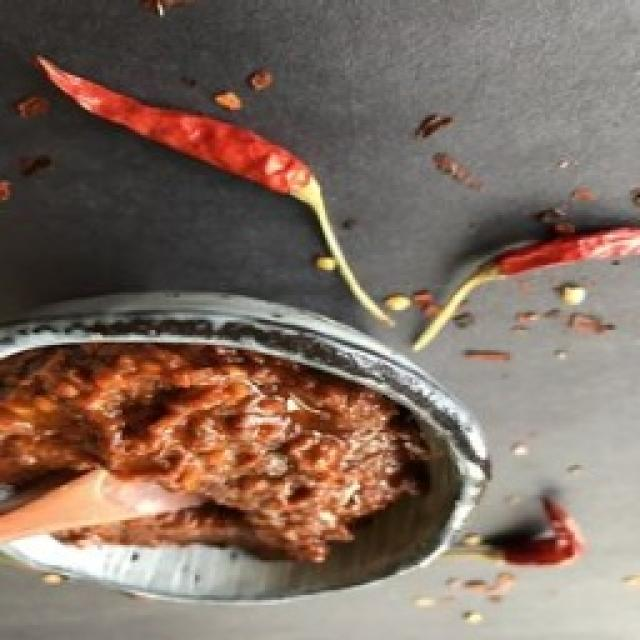Harissa: (0, 344, 428, 562)
